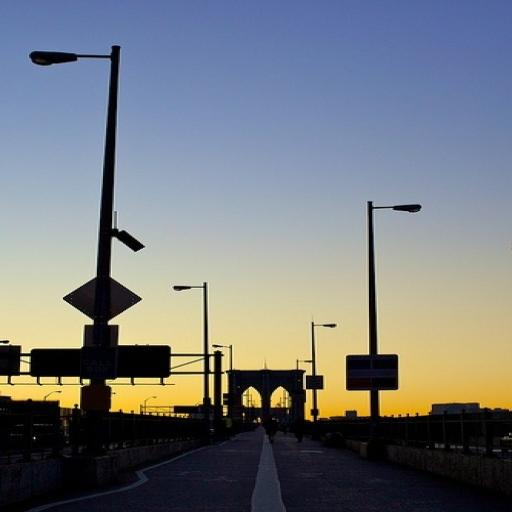off street light: (22, 33, 146, 358), (349, 191, 429, 386), (169, 261, 229, 357), (300, 311, 340, 372)
